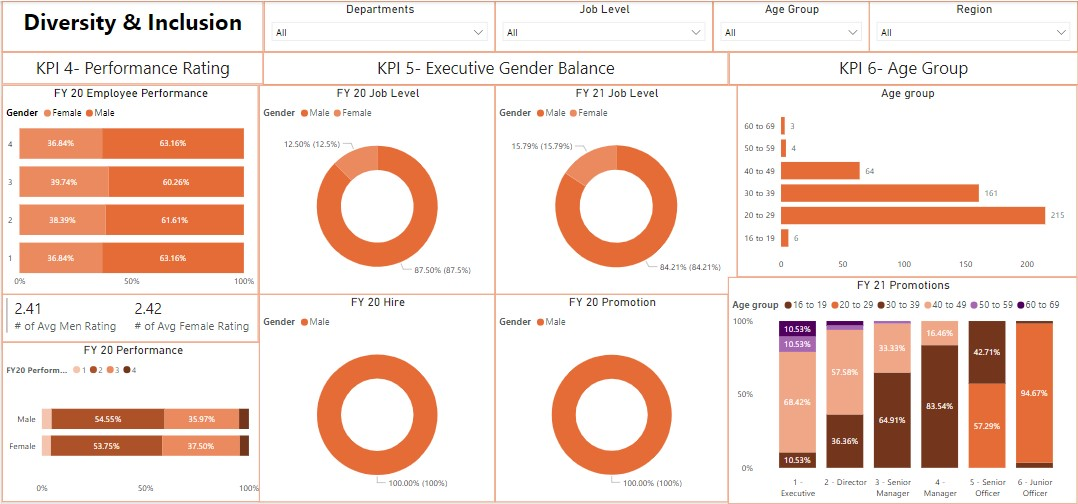

Layout of this report page (visuals, bound fields, positions):
{"tool":"powerbi","page":{"name":"Dashboard 2","canvas":[1540,720],"ordinal":1},"visuals":[{"type":"textbox","box":[0,0,374.4,73.4],"z":0},{"type":"slicer","title":"Departments","fields":{"Values":["Pharma Group AG.Last Department in FY20"]},"box":[374.6,0,330.7,73.2],"z":1000},{"type":"slicer","title":"Job Level","fields":{"Values":["Pharma Group AG.Job Level after FY20 promotions"]},"box":[705.4,0,311.7,73.2],"z":2000},{"type":"slicer","title":"Region","fields":{"Values":["Pharma Group AG.Broad region group: nationality 1"]},"box":[1241,0,299,73.4],"z":3000},{"type":"slicer","title":"Age Group","fields":{"Values":["Pharma Group AG.Age group"]},"box":[1017.1,0,223.9,73.2],"z":4000},{"type":"hundredPercentStackedBarChart","title":"FY 20 Employee Performance ","fields":{"Category":["Pharma Group AG.FY20 Performance Rating"],"Y":["CountNonNull(Pharma Group AG.Employee ID)"],"Series":["Pharma Group AG.Gender"]},"box":[0,119.5,367.2,299.5],"z":5000},{"type":"hundredPercentStackedBarChart","title":"FY 20 Performance","fields":{"Category":["Pharma Group AG.Gender"],"Y":["CountNonNull(Pharma Group AG.Employee ID)"],"Series":["Pharma Group AG.FY20 Performance Rating"]},"box":[0,488.2,374.4,229],"z":6000},{"type":"donutChart","title":"FY 20 Job Level","fields":{"Category":["Pharma Group AG.Gender"],"Y":["CountNonNull(Pharma Group AG.Employee ID)"]},"box":[367.2,119.5,338.4,299.5],"z":7000},{"type":"donutChart","title":"FY 21 Job Level","fields":{"Category":["Pharma Group AG.Gender"],"Y":["CountNonNull(Pharma Group AG.Employee ID)"]},"box":[705.6,119.5,347,299.5],"z":8000},{"type":"donutChart","title":"FY 20 Hire","fields":{"Category":["Pharma Group AG.Gender"],"Y":["CountNonNull(Pharma Group AG.Employee ID)"]},"box":[367.2,419,338.4,298.1],"z":9000},{"type":"donutChart","title":"FY 20 Promotion","fields":{"Category":["Pharma Group AG.Gender"],"Y":["CountNonNull(Pharma Group AG.Employee ID)"]},"box":[705.6,419,334.1,298.1],"z":10000},{"type":"clusteredBarChart","title":"Age group","fields":{"Category":["Pharma Group AG.Age group"],"Y":["CountNonNull(Pharma Group AG.Employee ID)"]},"box":[1052.6,119.5,486.7,275],"z":11000},{"type":"hundredPercentStackedColumnChart","title":"FY 21 Promotions ","fields":{"Category":["Pharma Group AG.Job Level after FY21 promotions"],"Y":["CountNonNull(Pharma Group AG.Employee ID)"],"Series":["Pharma Group AG.Age group"]},"box":[1039.7,394.6,499.7,325.4],"z":12000},{"type":"multiRowCard","fields":{"Values":["Pharma Group AG.# of Avg Men Rating","Pharma Group AG.# of Avg Female Rating"]},"box":[0,419,367.2,69.1],"z":13000},{"type":"textbox","box":[0,73.4,374.4,46.1],"z":14000},{"type":"textbox","box":[374.3,73.4,666.1,46.6],"z":15000},{"type":"textbox","box":[1040.4,73.4,499.6,46.6],"z":16000}]}

Visuals, with their boxes in screenshot pixels (x1, y1, x2, y2), scaled from the page's 1540x720 canvas onto the 1078x504 screenshot:
textbox: detection(0, 0, 262, 51)
"Departments" slicer: detection(262, 0, 494, 51)
"Job Level" slicer: detection(494, 0, 712, 51)
"Region" slicer: detection(869, 0, 1077, 51)
"Age Group" slicer: detection(712, 0, 869, 51)
"FY 20 Employee Performance " hundredPercentStackedBarChart: detection(0, 84, 257, 293)
"FY 20 Performance" hundredPercentStackedBarChart: detection(0, 342, 262, 502)
"FY 20 Job Level" donutChart: detection(257, 84, 494, 293)
"FY 21 Job Level" donutChart: detection(494, 84, 737, 293)
"FY 20 Hire" donutChart: detection(257, 293, 494, 502)
"FY 20 Promotion" donutChart: detection(494, 293, 728, 502)
"Age group" clusteredBarChart: detection(737, 84, 1077, 276)
"FY 21 Promotions " hundredPercentStackedColumnChart: detection(728, 276, 1077, 503)
multiRowCard - Pharma Group AG.# of Avg Men Rating x Pharma Group AG.# of Avg Female Rating: detection(0, 293, 257, 342)
textbox: detection(0, 51, 262, 84)
textbox: detection(262, 51, 728, 84)
textbox: detection(728, 51, 1077, 84)
